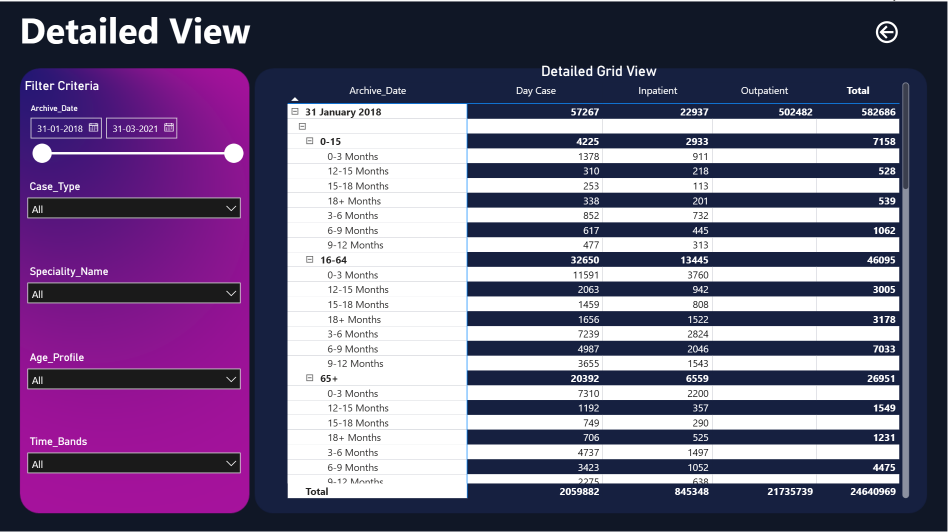

This screenshot's page, from the dashboard's own definition file:
{"tool":"powerbi","page":{"name":"Detail","canvas":[1280,720],"ordinal":1},"visuals":[{"type":"slicer","title":"Filter Criteria","fields":{"Values":["All_Data.Archive_Date"]},"box":[30.1,104.4,308.5,120.2],"z":0},{"type":"slicer","fields":{"Values":["All_Data.Case_Type"]},"box":[28.8,236.6,307.9,97.1],"z":1000},{"type":"slicer","fields":{"Values":["All_Data.Speciality_Name"]},"box":[28.8,351.8,307.9,97.1],"z":2000},{"type":"slicer","fields":{"Values":["All_Data.Age_Profile"]},"box":[28.8,467.1,307.9,95.5],"z":3000},{"type":"slicer","fields":{"Values":["All_Data.Time_Bands"]},"box":[28.8,580.9,307.9,95.5],"z":4000},{"type":"pivotTable","title":"Detailed Grid View","fields":{"Rows":["All_Data.Archive_Date","All_Data.Speciality_Name","All_Data.Age_Profile","All_Data.Time_Bands"],"Columns":["All_Data.Case_Type"],"Values":["Sum(All_Data.Total)"]},"box":[384.5,82.3,848.1,593.3],"z":5000},{"type":"textbox","box":[7.9,0,351.2,80.7],"z":6000},{"type":"actionButton","box":[1148.7,22.2,99.7,39.6],"z":7000}]}

Visuals, with their boxes in screenshot pixels (x1, y1, x2, y2), scaled from the page's 1280x720 canvas onto the 948x532 screenshot:
"Filter Criteria" slicer: select_region(22, 77, 251, 166)
slicer - All_Data.Case_Type: select_region(21, 175, 249, 247)
slicer - All_Data.Speciality_Name: select_region(21, 260, 249, 332)
slicer - All_Data.Age_Profile: select_region(21, 345, 249, 416)
slicer - All_Data.Time_Bands: select_region(21, 429, 249, 500)
"Detailed Grid View" pivotTable: select_region(285, 61, 913, 499)
textbox: select_region(6, 0, 266, 60)
actionButton: select_region(851, 16, 925, 46)
